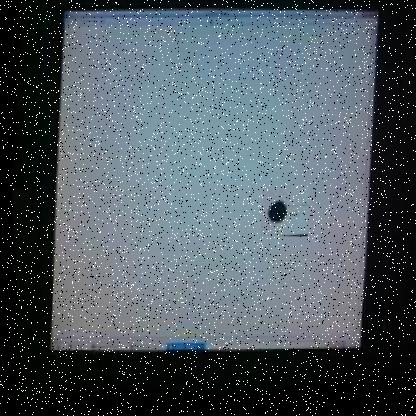spot: (255, 190, 310, 248)
